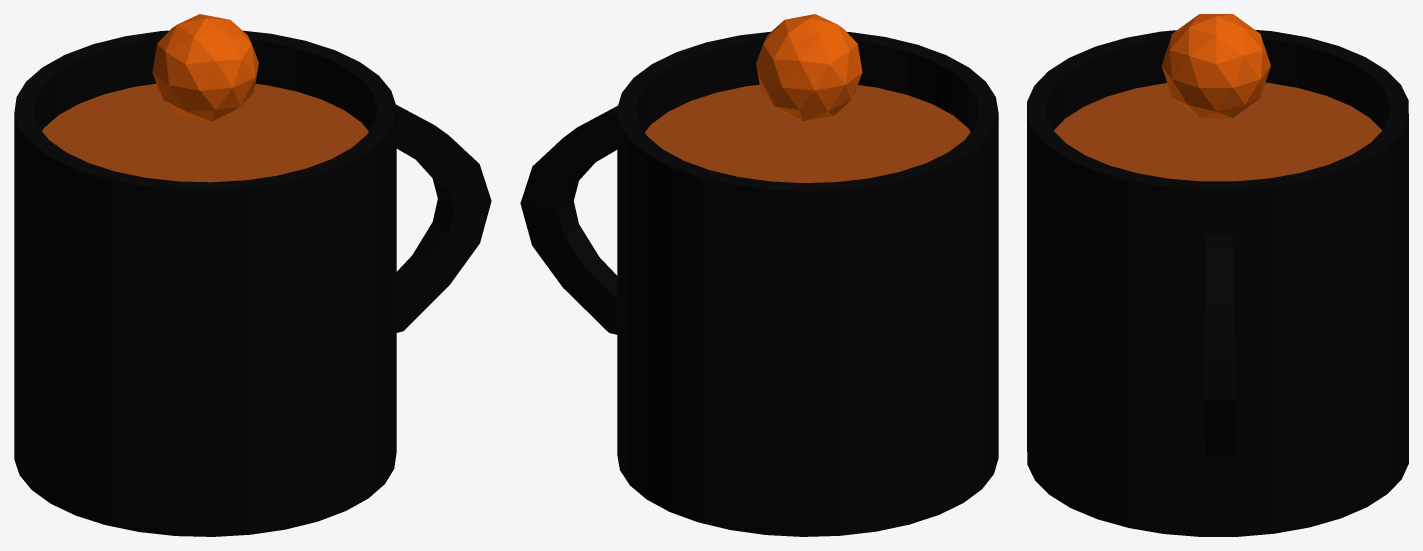
Rendered from tea.glb.
3 renders of one model, left to right at view 1: azimuth 30°, elevation 25°; view 2: azimuth 150°, elevation 25°; view 3: azimuth 270°, elevation 25°, orthographic.
Visible parts, largest first — view 1: Cylinder, Icosphere; view 2: Cylinder, Icosphere; view 3: Cylinder, Icosphere.
Part boxes in pixels (x1,y1,x2,y2): Cylinder: [14, 30, 491, 536]; Icosphere: [152, 14, 258, 121]; Cylinder: [520, 31, 998, 536]; Icosphere: [756, 14, 862, 121]; Cylinder: [1027, 30, 1408, 536]; Icosphere: [1161, 14, 1270, 117].
Bounding box in the file's own units: 2.68 × 2.53 × 1.99.
